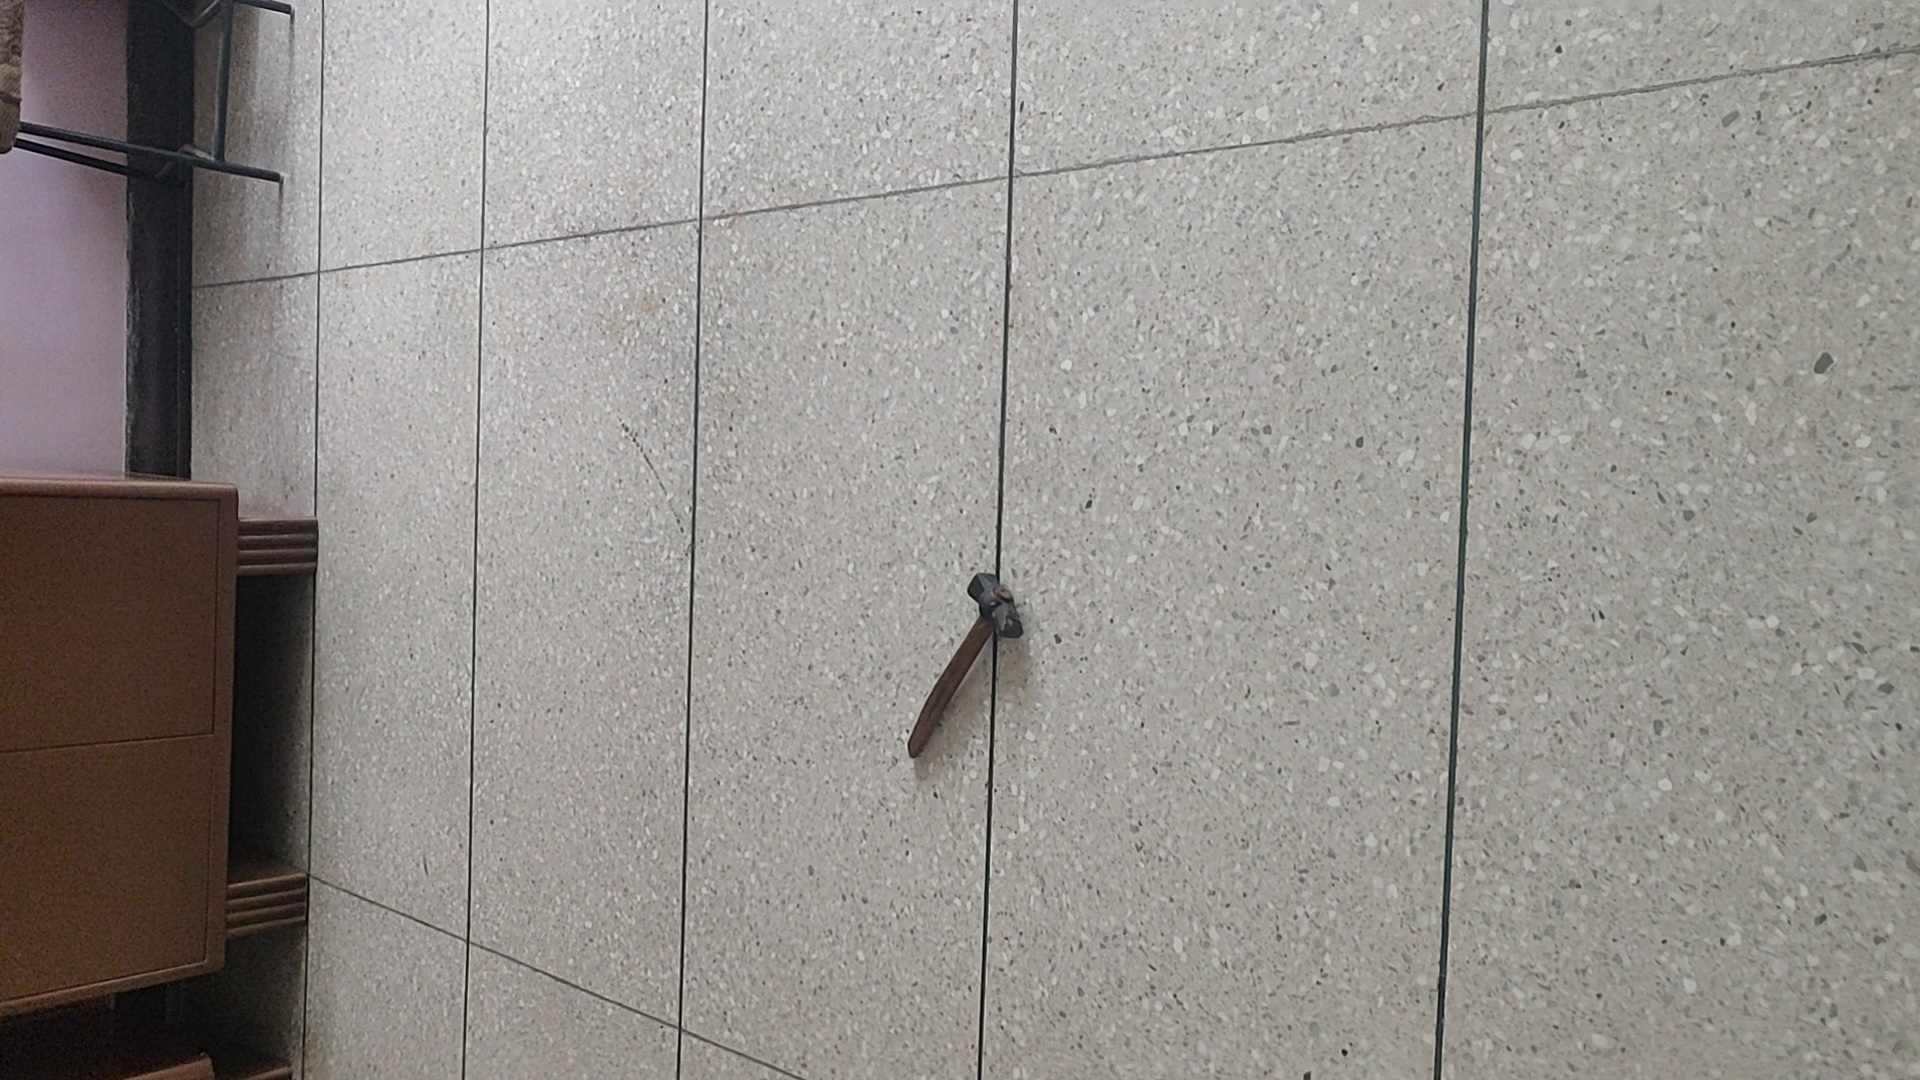hammer: (898, 571, 1025, 764)
